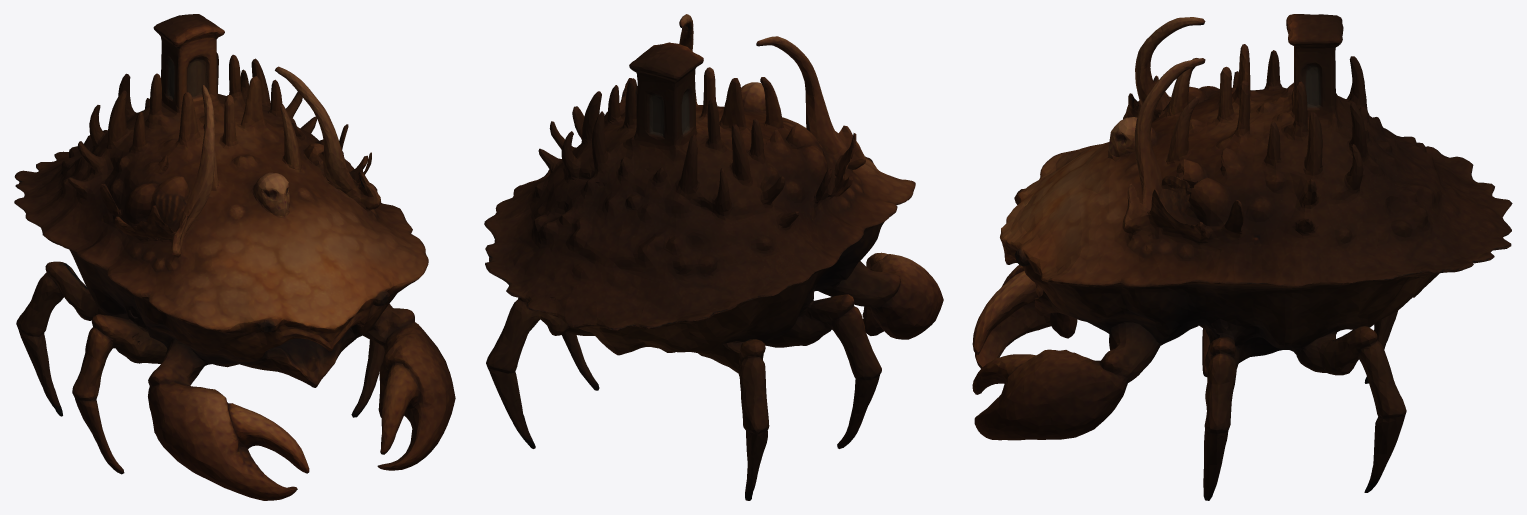
The model's file is crab.glb.
3 renders of one model, left to right at view 1: azimuth 30°, elevation 25°; view 2: azimuth 150°, elevation 25°; view 3: azimuth 270°, elevation 25°, orthographic. The views are drawn at different scales.
Visible parts, largest first — view 1: world; view 2: world; view 3: world.
Part boxes in pixels (<box>): world: <box>14,14,455,500</box>; world: <box>484,14,943,500</box>; world: <box>972,14,1512,500</box>.
Size of the model in its own units: 0.666 by 0.7688 by 0.8951.
1 material, 1 textured.
